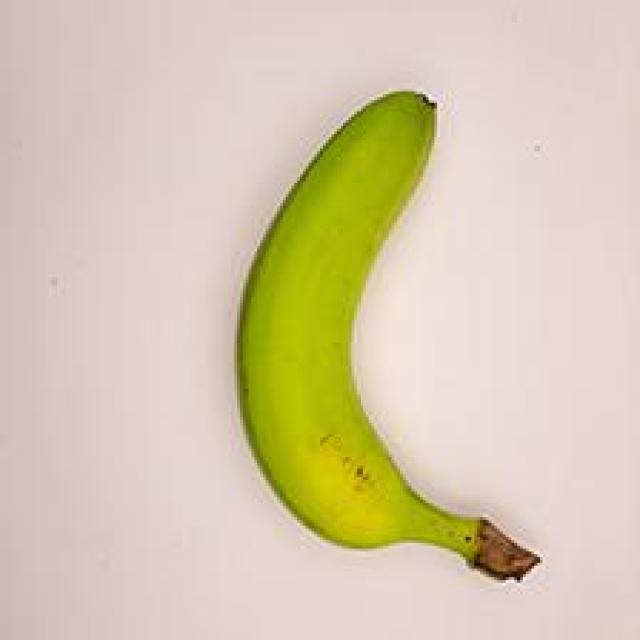Unripe: (208, 69, 557, 610)
